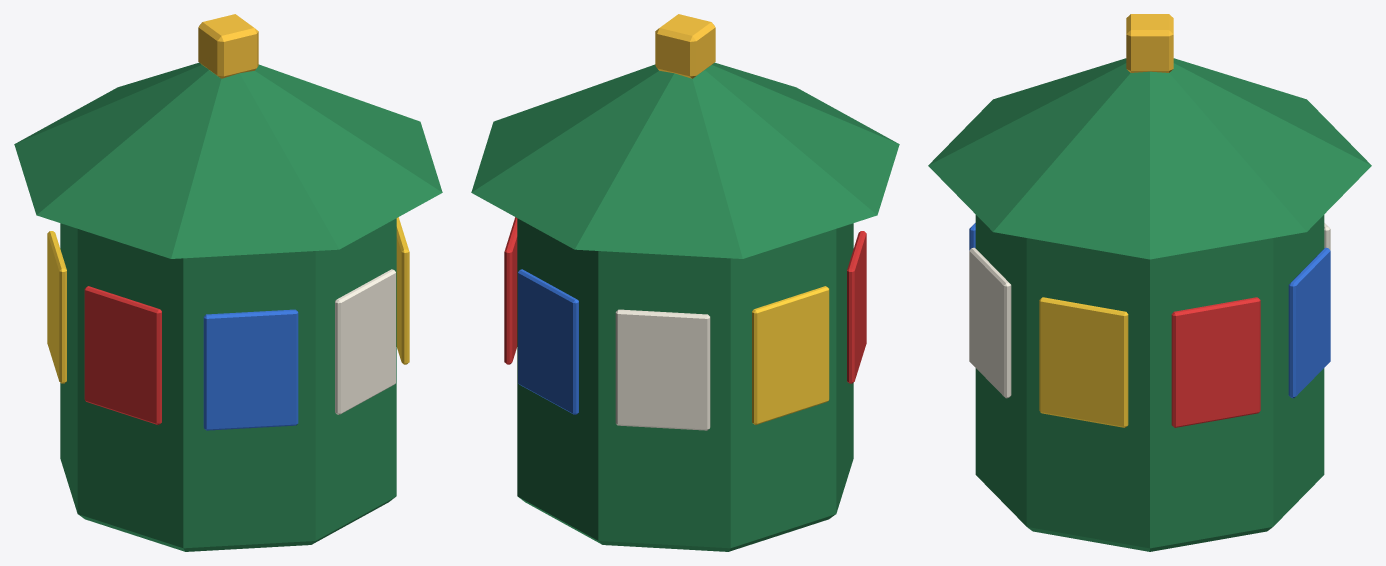
The model's file is NewsKiosk.fbx.
The picture shows the model from 3 angles, left to right: view 1: azimuth 30°, elevation 25°; view 2: azimuth 150°, elevation 25°; view 3: azimuth 270°, elevation 25°; orthographic projection.
Parts seen in each view (by area): view 1: NewsKiosk; view 2: NewsKiosk; view 3: NewsKiosk.
Part boxes in pixels (box(x1,y1,x2,y2)): NewsKiosk: box(14, 14, 442, 551); NewsKiosk: box(471, 14, 899, 551); NewsKiosk: box(928, 14, 1371, 551).
Bounding box in the file's own units: 5.6 × 6.4 × 5.6.
1 material, 1 textured.
